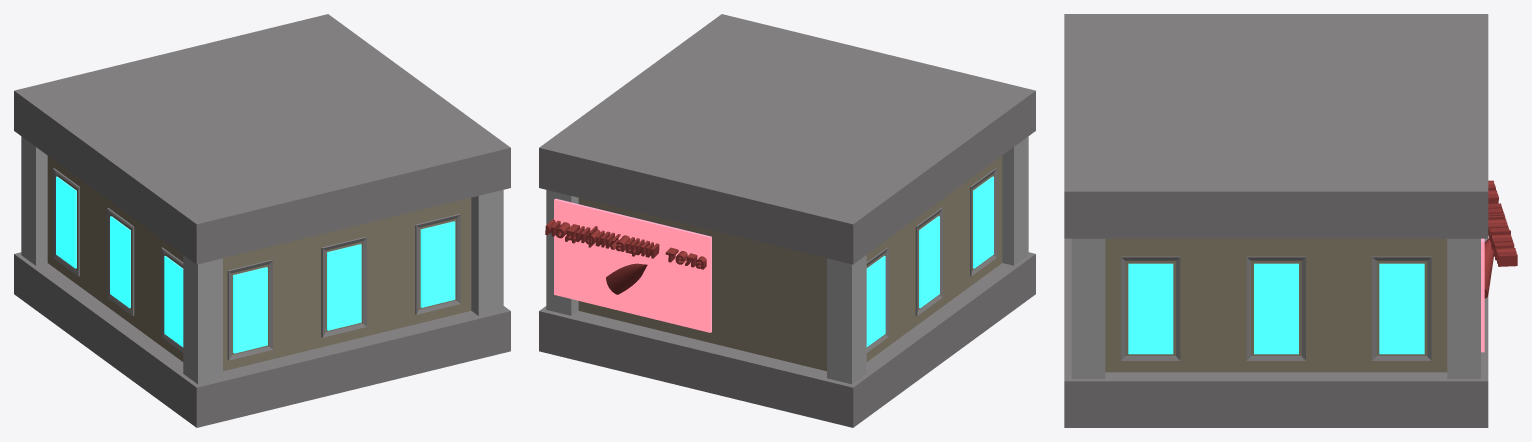
The picture shows the model from 3 angles, left to right: view 1: azimuth 30°, elevation 25°; view 2: azimuth 150°, elevation 25°; view 3: azimuth 270°, elevation 25°; orthographic projection. The views are drawn at different scales.
Parts seen in each view (by area): view 1: Cube.002; view 2: Cube.002; view 3: Cube.002.
Part boxes in pixels (<box>): Cube.002: <box>14,14,510,427</box>; Cube.002: <box>539,14,1035,427</box>; Cube.002: <box>1064,14,1517,427</box>.
Bounding box in the file's own units: 13.17 × 8.16 × 14.2.
